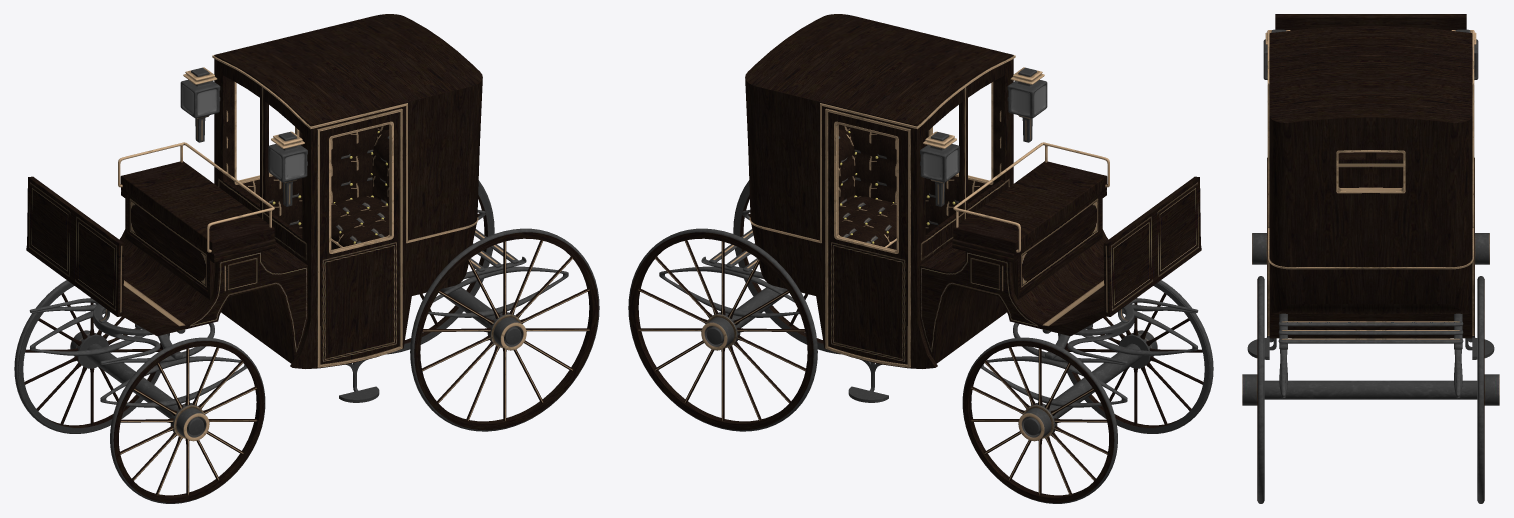
File: HorseCarriage.fbx
The picture shows the model from 3 angles, left to right: view 1: azimuth 30°, elevation 25°; view 2: azimuth 150°, elevation 25°; view 3: azimuth 270°, elevation 25°; orthographic projection. The views are drawn at different scales.
Parts seen in each view (by area): view 1: Cube, Cube.001, Cube.002, Cylinder.002, Cylinder, Plane.003, Cylinder.003, Cube.005, Cylinder.001, Plane.001, BezierCurve, Cube.003 (+6 smaller); view 2: Cube, Cube.001, Cube.002, Cylinder.002, Cylinder, Plane.003, Cylinder.003, Cube.005, Cylinder.001, Plane.001, BezierCurve, Cube.003 (+6 smaller); view 3: Cube, Cylinder, Cube.012, Cube.001, BezierCurve.001, Cylinder.002, BezierCurve, Cube.015, Cube.010, Cube.006, Cube.005, Cube.011.
Part boxes in pixels (<box>): Cube: <box>214,14,482,368</box>; Cube.001: <box>26,176,307,363</box>; Cube.002: <box>120,161,275,299</box>; Cylinder.002: <box>14,280,265,503</box>; Cylinder: <box>386,180,599,431</box>; Plane.003: <box>226,77,389,234</box>; Cylinder.003: <box>24,293,257,495</box>; Cube.005: <box>180,67,307,206</box>; Cylinder.001: <box>419,213,589,420</box>; Plane.001: <box>331,129,389,246</box>; BezierCurve: <box>317,108,402,367</box>; Cube.003: <box>30,309,246,407</box>; Cube: <box>745,14,1013,368</box>; Cube.001: <box>920,176,1201,363</box>; Cube.002: <box>952,161,1107,299</box>; Cylinder.002: <box>962,280,1213,503</box>; Cylinder: <box>628,180,841,431</box>; Plane.003: <box>838,77,1001,234</box>; Cylinder.003: <box>970,293,1203,495</box>; Cube.005: <box>920,67,1047,206</box>; Cylinder.001: <box>638,213,808,420</box>; Plane.001: <box>838,129,896,246</box>; BezierCurve: <box>825,108,910,367</box>; Cube.003: <box>981,309,1197,407</box>; Cube: <box>1269,25,1472,338</box>; Cylinder: <box>1242,276,1499,503</box>; Cube.012: <box>1278,321,1463,343</box>; Cube.001: <box>1275,14,1466,157</box>; BezierCurve.001: <box>1268,33,1473,269</box>; Cylinder.002: <box>1252,157,1489,342</box>; BezierCurve: <box>1267,42,1474,335</box>; Cube.015: <box>1336,150,1405,193</box>; Cube.010: <box>1279,349,1462,398</box>; Cube.006: <box>1247,337,1494,359</box>; Cube.005: <box>1263,29,1478,79</box>; Cube.011: <box>1279,313,1462,349</box>.
Bounding box in the file's own units: 389 × 271 × 171.
